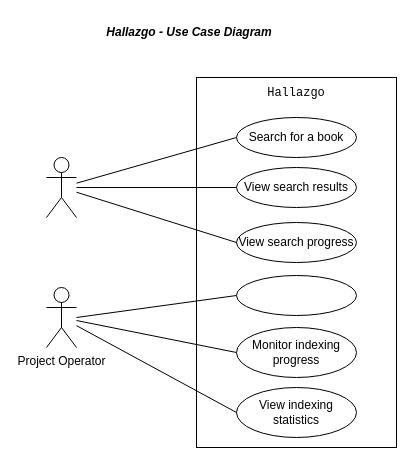
Image size: 414x465. Some labels were removed from this diagram. The centre of each missing label's shape, as x and y in pixels:
"Reader" belongs at (61,187).
"Start indexing" belongs at (296,295).
